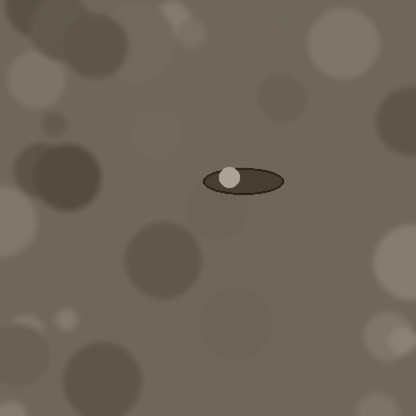gota: (203, 169, 283, 197)
